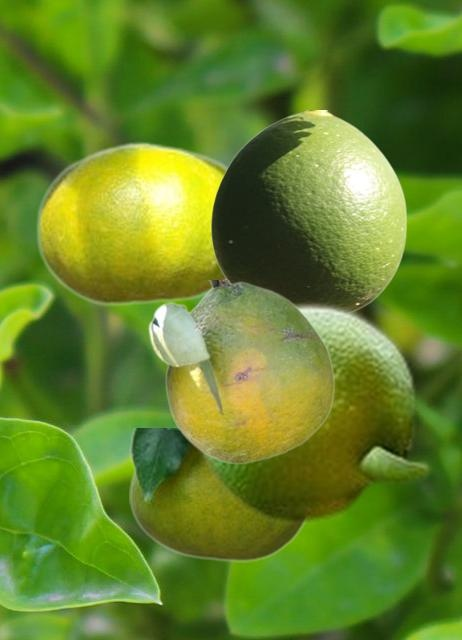dalandan: (196, 299, 433, 523), (210, 110, 406, 309), (147, 280, 334, 463), (35, 141, 227, 306), (129, 428, 307, 561)
